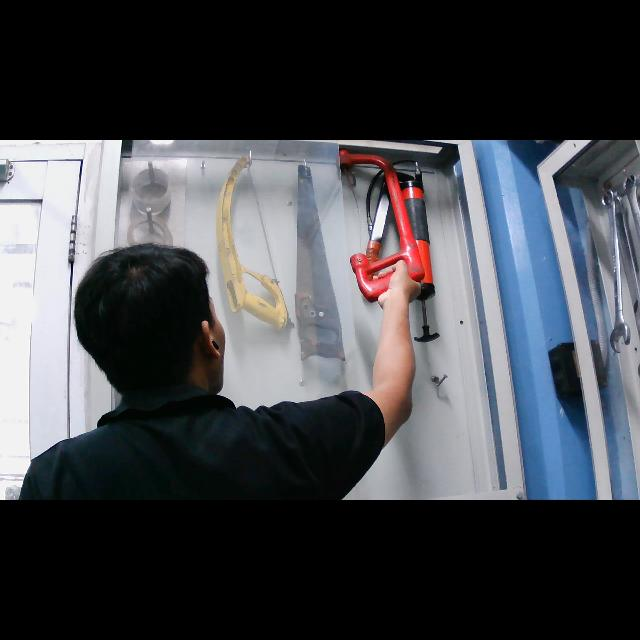gergaji_besi: (336, 146, 426, 308)
